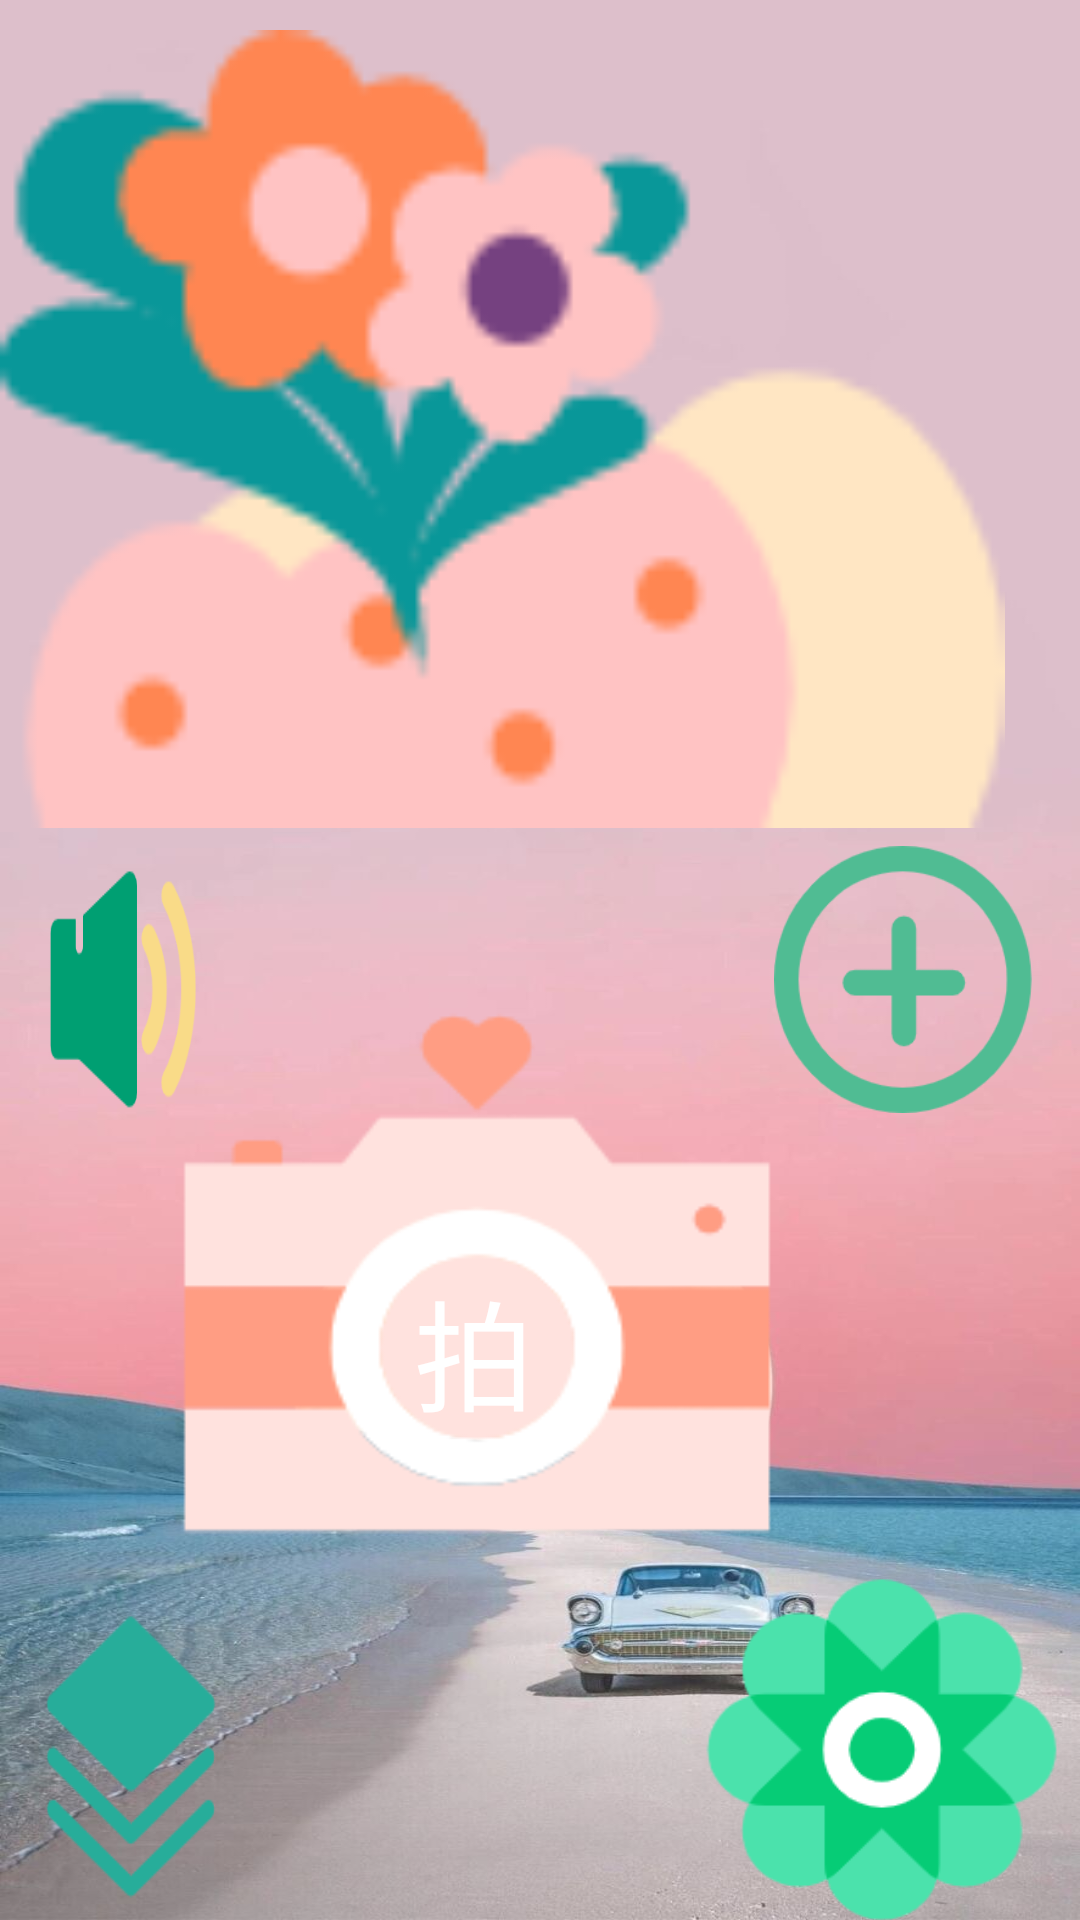

Icon click points for this 1080x1920 phone screenshot, format (x=x, y=y):
add: (x=903, y=979)
sound: (x=123, y=989)
